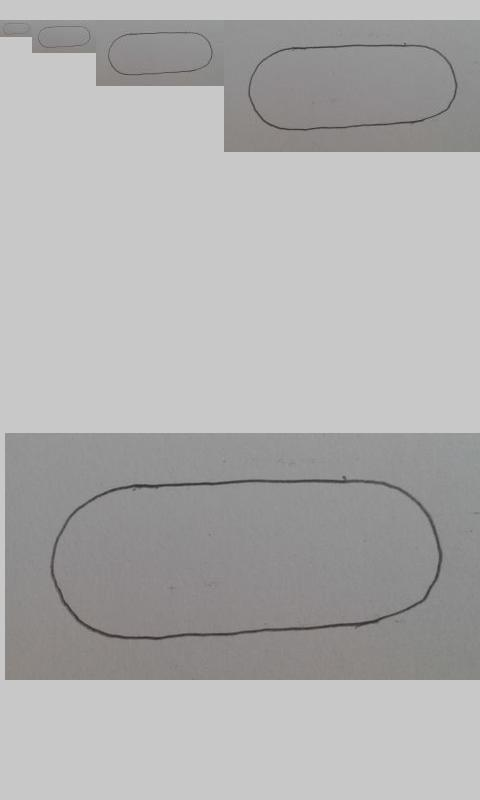chip: (48, 476, 445, 643), (248, 43, 457, 131), (108, 31, 213, 76), (38, 25, 91, 49), (2, 22, 30, 35)
